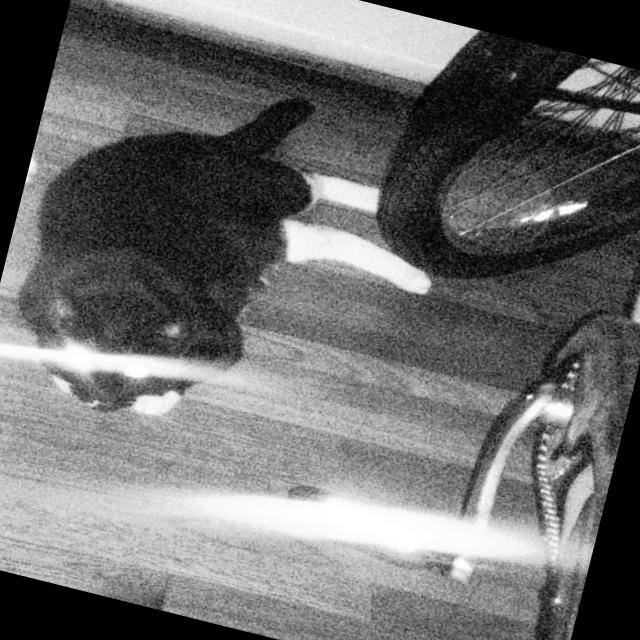Bicycle: (257, 13, 640, 640)
Cat: (0, 36, 458, 499)
